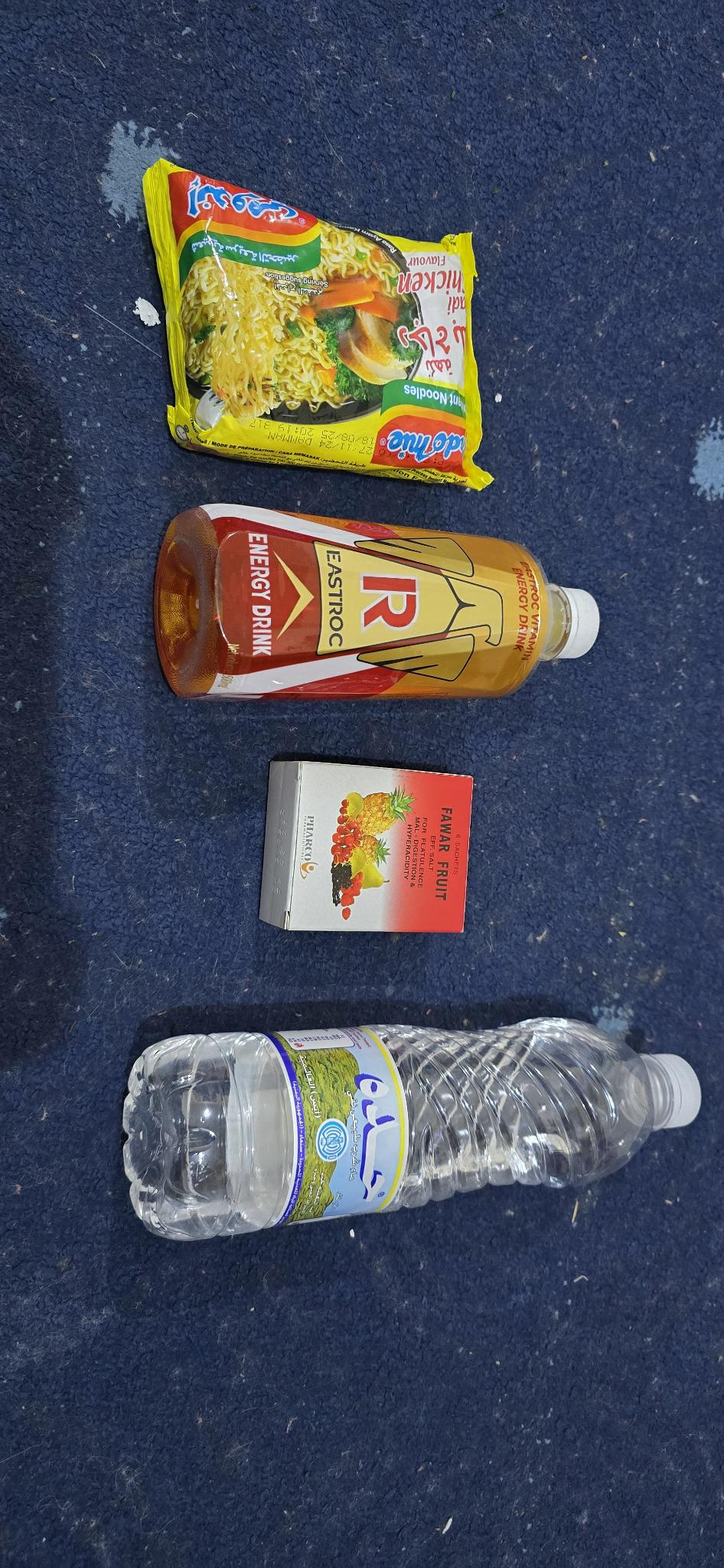Eastroc: (147, 501, 618, 707)
Fawar: (263, 771, 480, 945)
Noodles: (161, 184, 489, 485)
Water: (103, 1018, 705, 1243)
